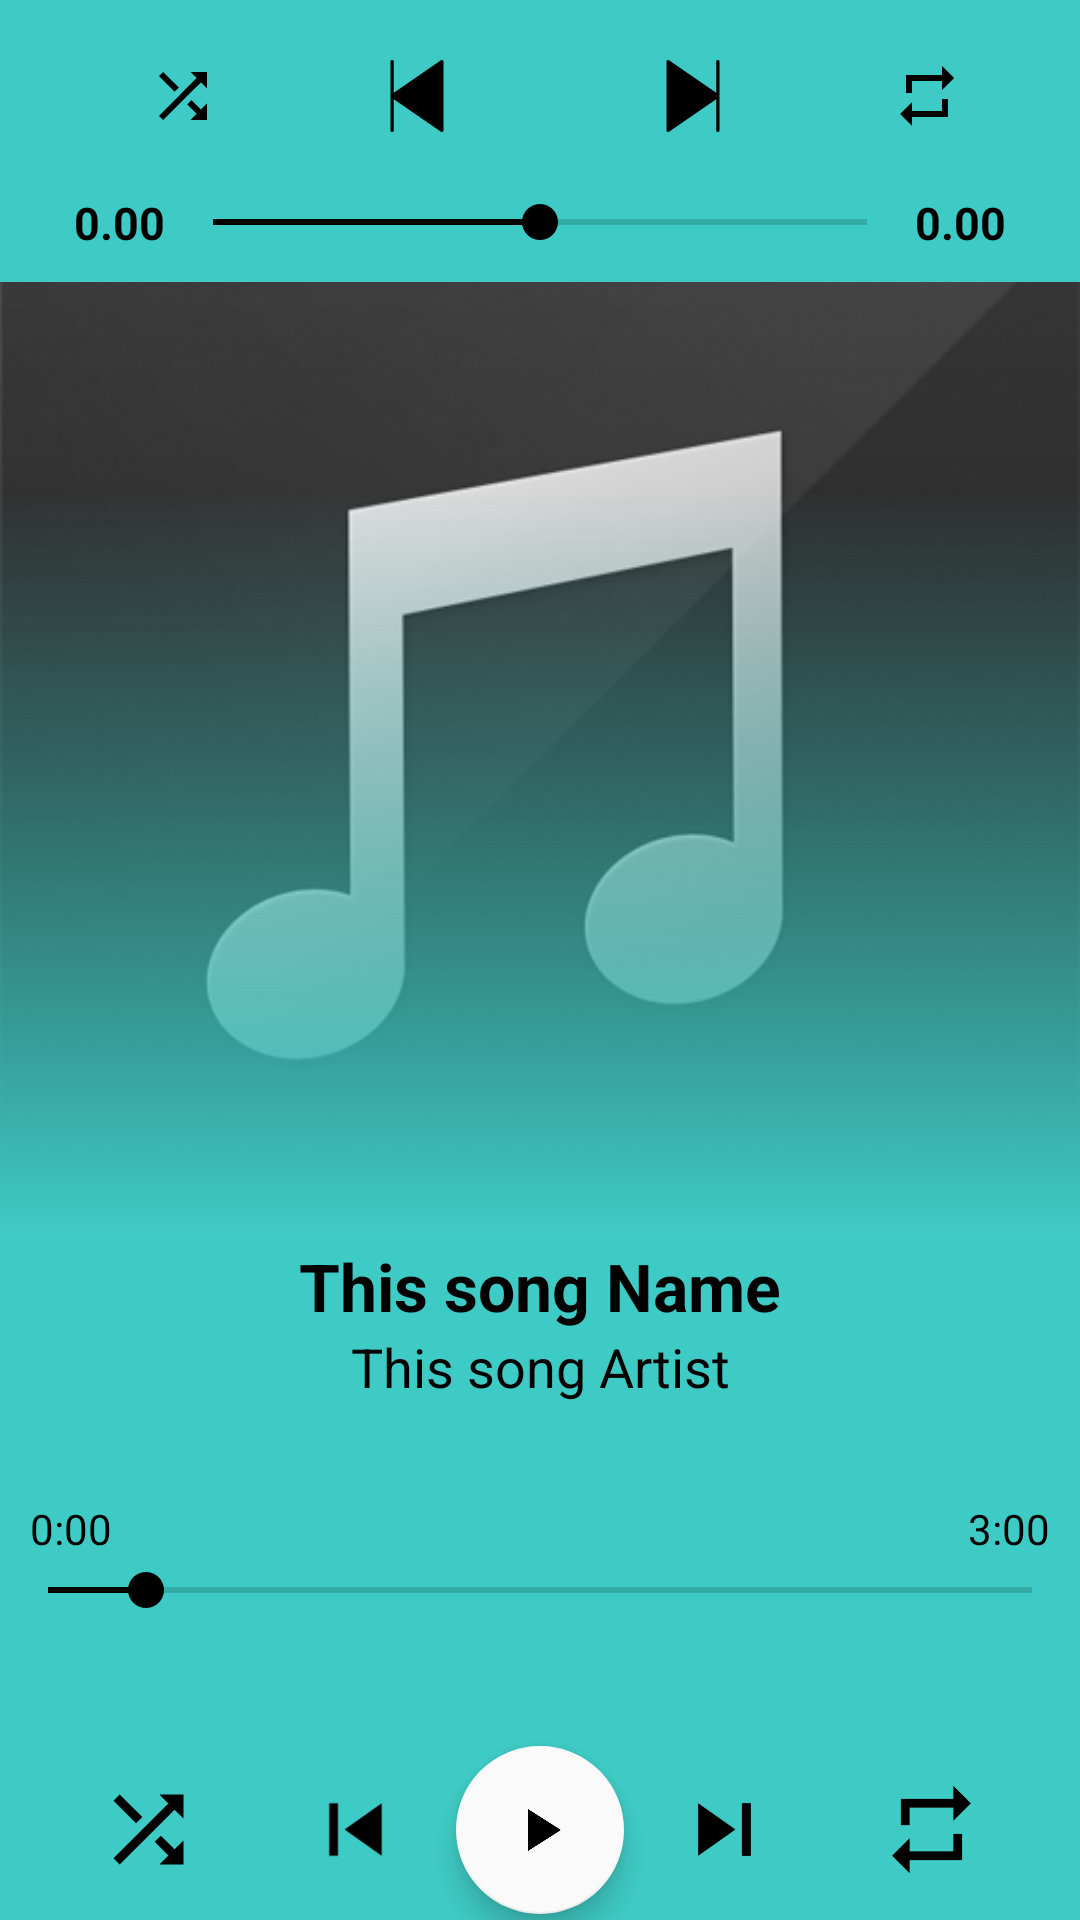

Icon click points for this 1080 x 1920 phone screenshot, format (x,y):
play: (540,1830)
repeat off: (927,96), (931,1829)
shuffle off: (183,96), (148,1829)
